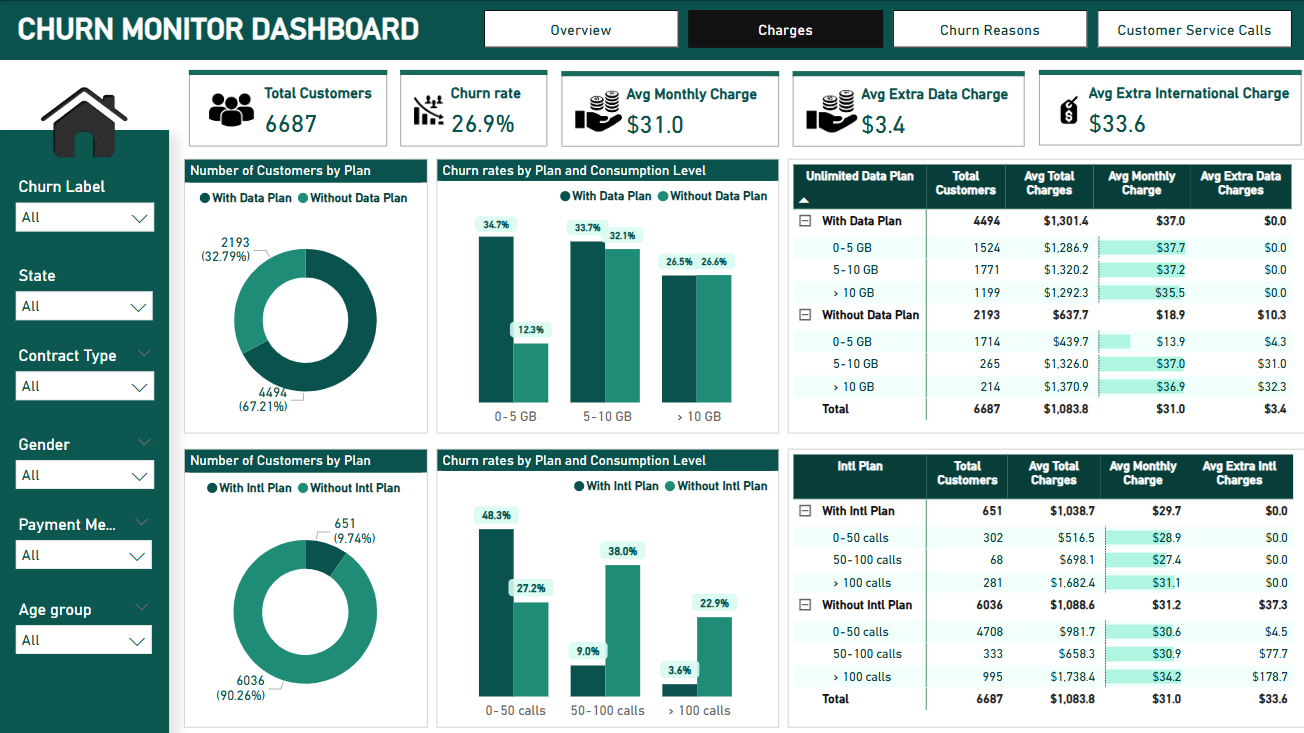

What the dashboard file says about the page in this screenshot:
{"tool":"powerbi","page":{"name":"Extra charges","canvas":[1280,720],"ordinal":2},"visuals":[{"type":"shape","box":[0,125.7,165.7,592.9],"z":0},{"type":"textbox","box":[31.7,15.9,258.3,37.5],"z":1000},{"type":"image","box":[32.3,61.5,103.1,107.7],"z":2000},{"type":"slicer","fields":{"Values":["Databel - Data.Contract Type"]},"box":[4.9,182.2,156.5,84.4],"z":3000},{"type":"slicer","fields":{"Values":["Databel - Data.Gender"]},"box":[2.4,266.6,156.5,75.8],"z":4000},{"type":"slicer","fields":{"Values":["Databel - Data.State"]},"box":[2.4,342.4,154.1,78.3],"z":5000},{"type":"actionButton","box":[13,679.5,47.6,40.4],"z":6000},{"type":"actionButton","box":[60.6,679.5,44.7,40.4],"z":7000},{"type":"slicer","fields":{"Values":["Databel - Data.Payment Method"]},"box":[2.4,420.7,152.9,80.7],"z":8000},{"type":"card","fields":{"Values":["Avg(Databel - Data.Monthly Charge)"]},"box":[524.6,15.9,218.9,94.2],"z":9000},{"type":"card","fields":{"Values":["Avg(Databel - Data.Extra Data Charges)"]},"box":[781.4,17.1,221.3,92.9],"z":10000},{"type":"card","fields":{"Values":["Avg(Databel - Data.Extra International Charges)"]},"box":[1040.6,17.1,220.1,92.9],"z":11000},{"type":"clusteredColumnChart","title":"Churn rate by Consumption Level and Unlimited Data Plan","fields":{"Series":["Databel - Data.Unlimited Data Plan"],"Category":["Databel - Data.Grouped Consumption"],"Y":["_Measures.Churn rate"]},"box":[474.7,128.4,432,281.3],"z":12000},{"type":"clusteredColumnChart","title":"Churn rate by Number of International Calls and International Plan","fields":{"Y":["_Measures.Churn rate"],"Series":["Databel - Data.Intl Plan"],"Category":["Databel - Data.No. Intl Calls"]},"box":[474.7,422.7,432,277],"z":13000},{"type":"card","fields":{"Values":["_Measures.Churn rate"]},"box":[332.6,15.9,154.1,94.2],"z":14000},{"type":"pieChart","fields":{"Category":["Databel - Data.Unlimited Data Plan"],"Y":["_Measures.Number of Customers"]},"box":[178,129.8,284.2,279.9],"z":15000},{"type":"pieChart","title":"Number of Customers by International Plan","fields":{"Y":["_Measures.Number of Customers"],"Category":["Databel - Data.Intl Plan"]},"box":[177.5,422.7,284.2,277],"z":16000},{"type":"pivotTable","title":"Avg Monthly Charge by Consumption and Data Unlimited Plan","fields":{"Rows":["Databel - Data.Grouped Consumption"],"Columns":["Databel - Data.Unlimited Data Plan"],"Values":["Avg(Databel - Data.Monthly Charge)"]},"box":[919,128.4,350.6,279.9],"z":17000},{"type":"pivotTable","title":"Avg Monthly Charge by Consumption and International Plan","fields":{"Values":["Avg(Databel - Data.Monthly Charge)"],"Columns":["Databel - Data.Intl Plan"],"Rows":["Databel - Data.No. Intl Calls"]},"box":[919,419.8,350.6,279.9],"z":18000},{"type":"slicer","fields":{"Values":["Databel - Data.Age (bins)"]},"box":[2.9,489.1,152.9,72.1],"z":18001}]}

Visuals, with their boxes in screenshot pixels (x1, y1, x2, y2), scaled from the page's 1280x720 canvas onto the 1304x733 screenshot:
shape: box(0, 128, 169, 732)
textbox: box(32, 16, 295, 54)
image: box(33, 63, 138, 172)
slicer - Databel - Data.Contract Type: box(5, 185, 164, 271)
slicer - Databel - Data.Gender: box(2, 271, 162, 349)
slicer - Databel - Data.State: box(2, 349, 159, 428)
actionButton: box(13, 692, 62, 732)
actionButton: box(62, 692, 107, 732)
slicer - Databel - Data.Payment Method: box(2, 428, 158, 510)
card - Avg(Databel - Data.Monthly Charge): box(534, 16, 757, 112)
card - Avg(Databel - Data.Extra Data Charges): box(796, 17, 1022, 112)
card - Avg(Databel - Data.Extra International Charges): box(1060, 17, 1284, 112)
"Churn rate by Consumption Level and Unlimited Data Plan" clusteredColumnChart: box(484, 131, 924, 417)
"Churn rate by Number of International Calls and International Plan" clusteredColumnChart: box(484, 430, 924, 712)
card - _Measures.Churn rate: box(339, 16, 496, 112)
pieChart - Databel - Data.Unlimited Data Plan x _Measures.Number of Customers: box(181, 132, 471, 417)
"Number of Customers by International Plan" pieChart: box(181, 430, 470, 712)
"Avg Monthly Charge by Consumption and Data Unlimited Plan" pivotTable: box(936, 131, 1293, 416)
"Avg Monthly Charge by Consumption and International Plan" pivotTable: box(936, 427, 1293, 712)
slicer - Databel - Data.Age (bins): box(3, 498, 159, 571)
